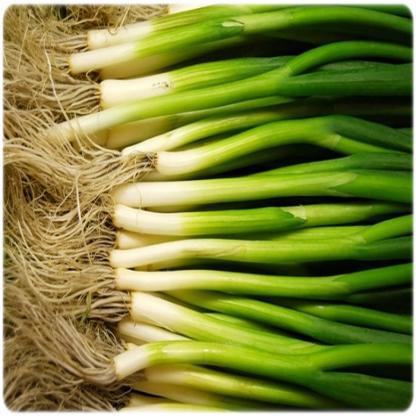green onion: (93, 324, 416, 412), (17, 81, 416, 139), (96, 226, 416, 298), (78, 168, 416, 233), (65, 13, 415, 72), (101, 119, 416, 178)
